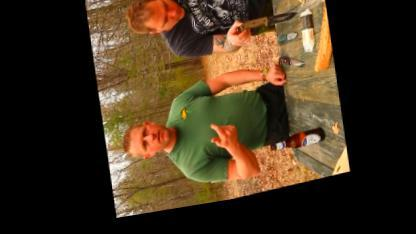knife: (228, 11, 298, 54)
